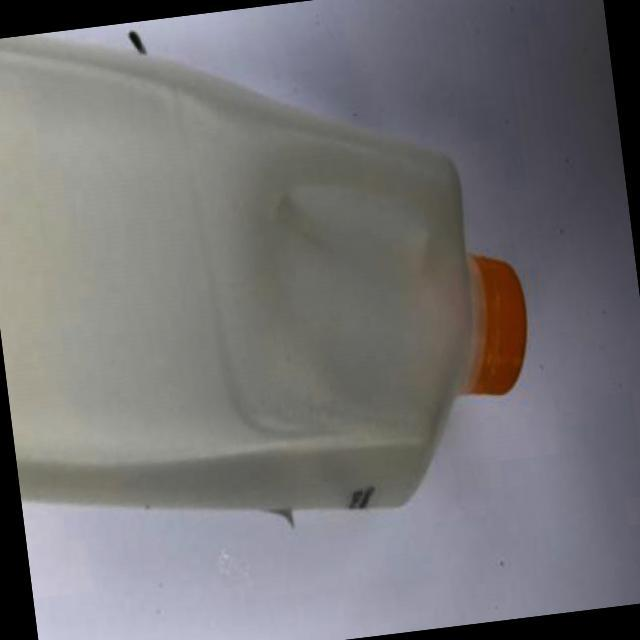HDPE Plastic: (0, 30, 536, 528)
